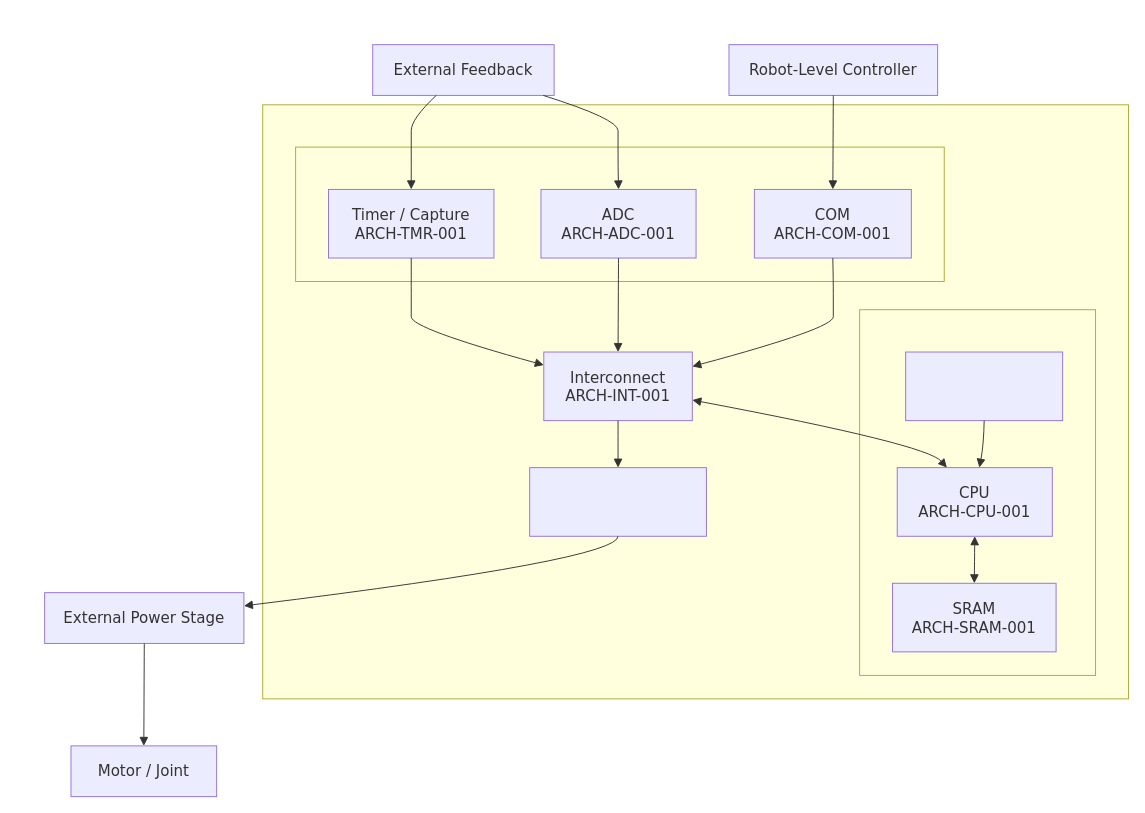
The diagram is 1145 pixels wide and 813 high, and some of its shapes have lost their labels. The box of each missing label's shape, as (x1, y1, x2, y2) in pixels:
Conceptual MCU / SoC: (262, 104, 1128, 699)
Input / Acquisition: (295, 146, 944, 282)
Output Peripheral ARCH-OUT-001: (529, 467, 706, 536)
Processing / Storage: (859, 309, 1096, 675)
Program NVM ARCH-NVM-001: (905, 351, 1063, 421)
